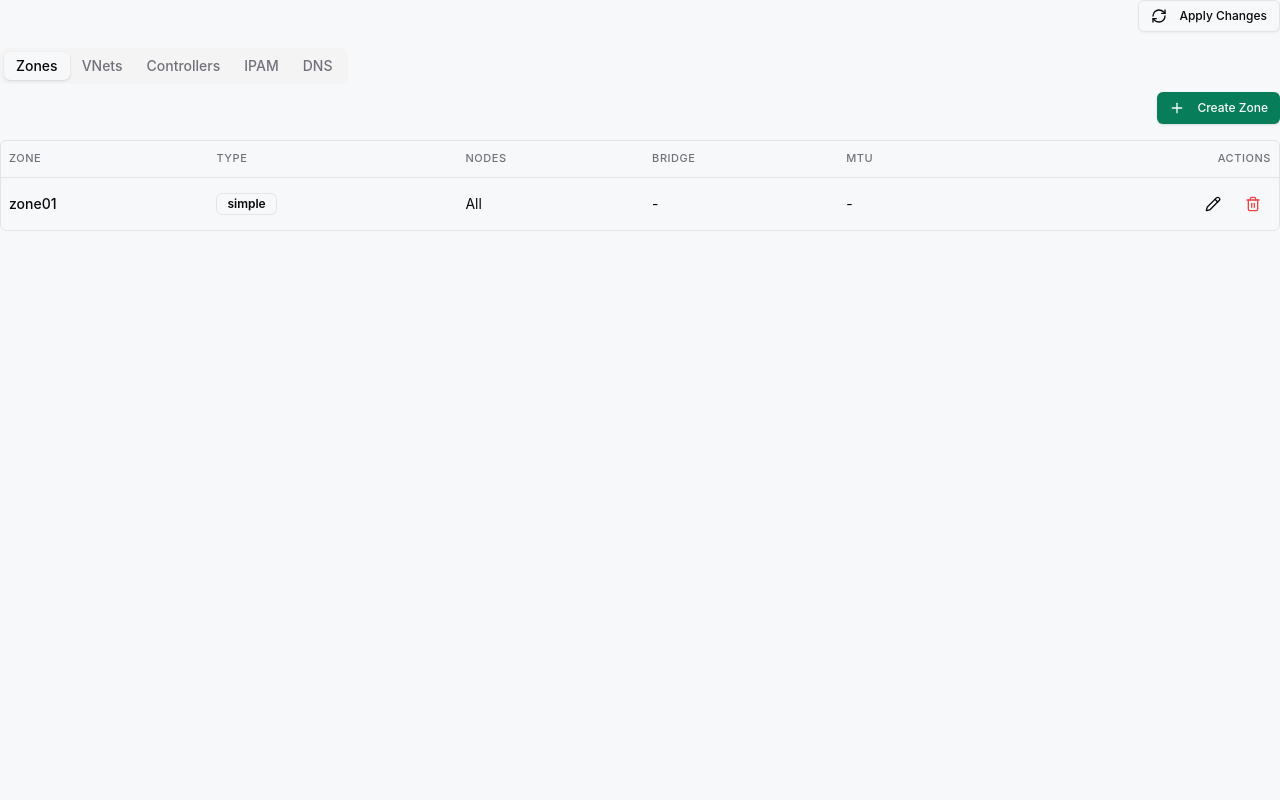
Test: SDNTable — deleting a subnet › asks first, naming the subnet and its VNet, and sends nothing
The image size is (1280, 800).
Click the tab "VNets": coordinates (102, 66) top-left (70, 52), bottom-right (134, 80)
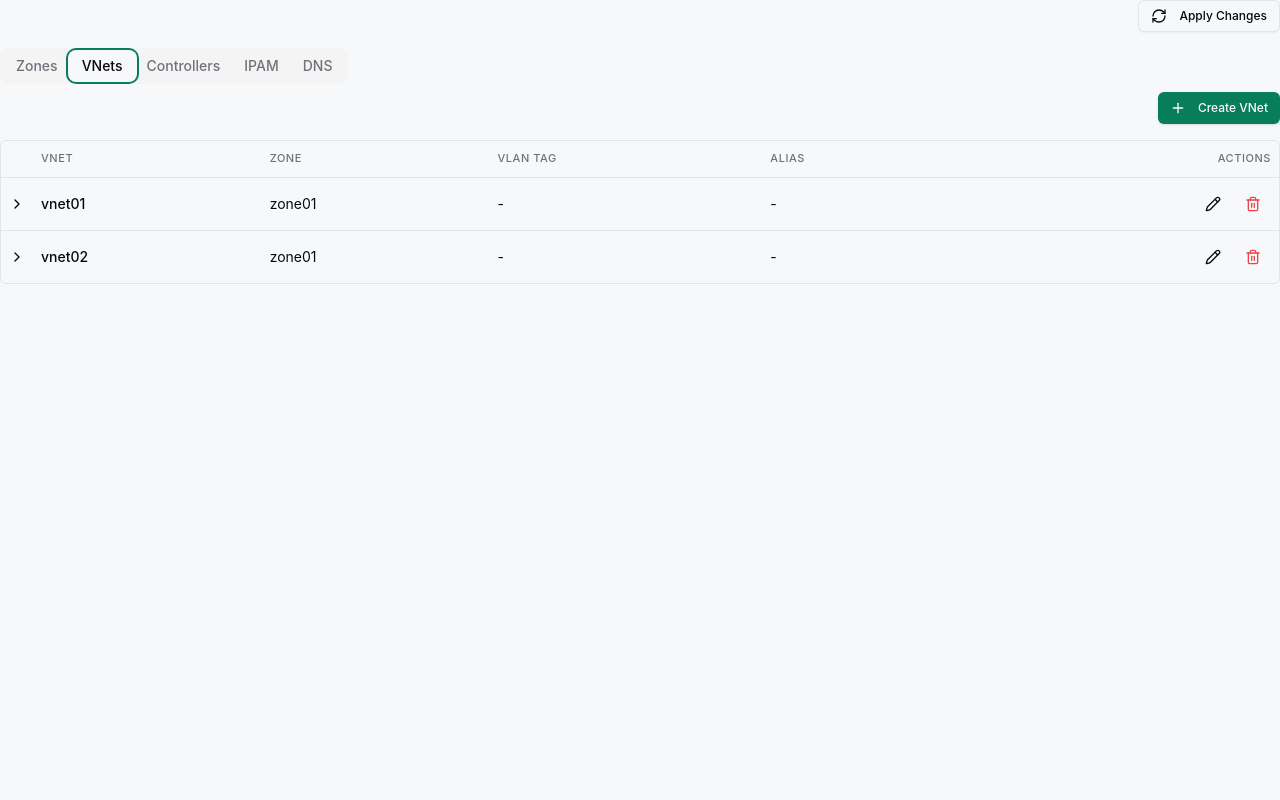
Click the text "vnet01": coordinates (63, 203) top-left (33, 177), bottom-right (262, 230)
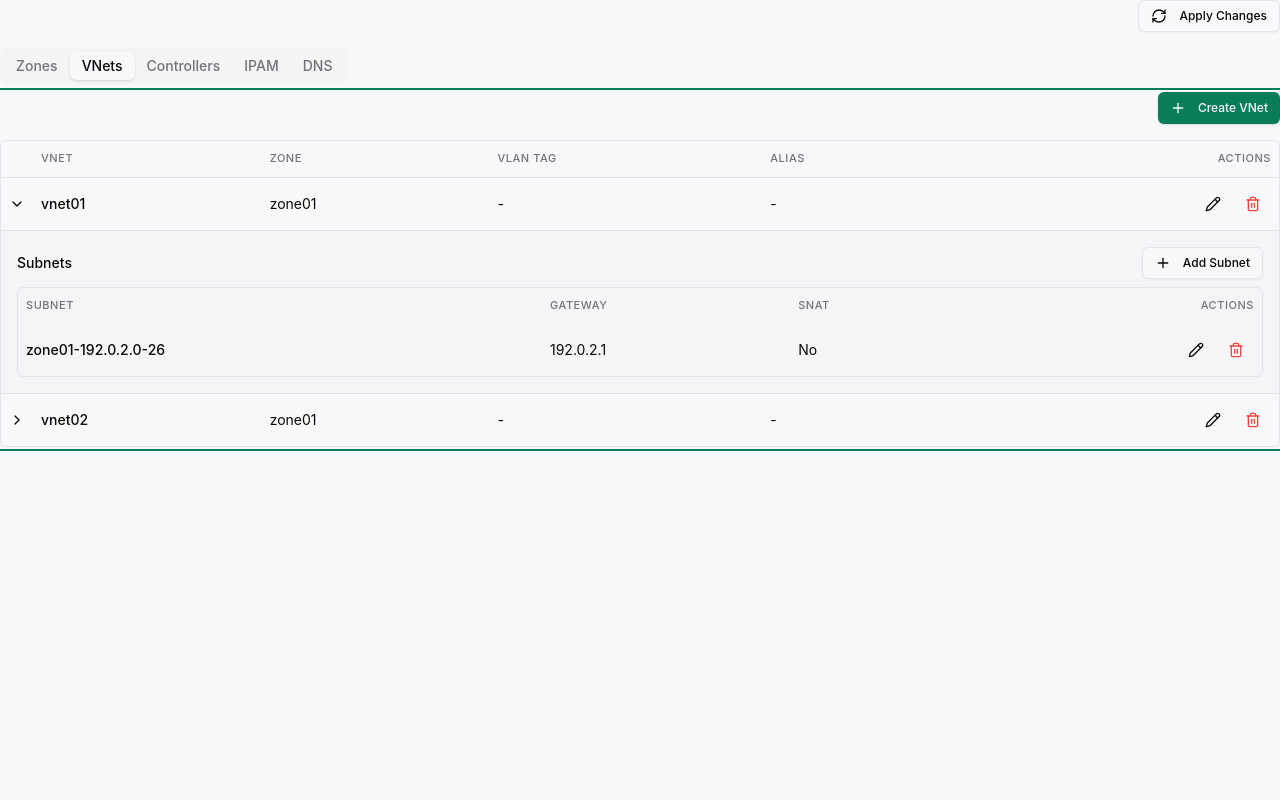
Click the text "vnet02": coordinates (65, 419) top-left (33, 393), bottom-right (262, 446)
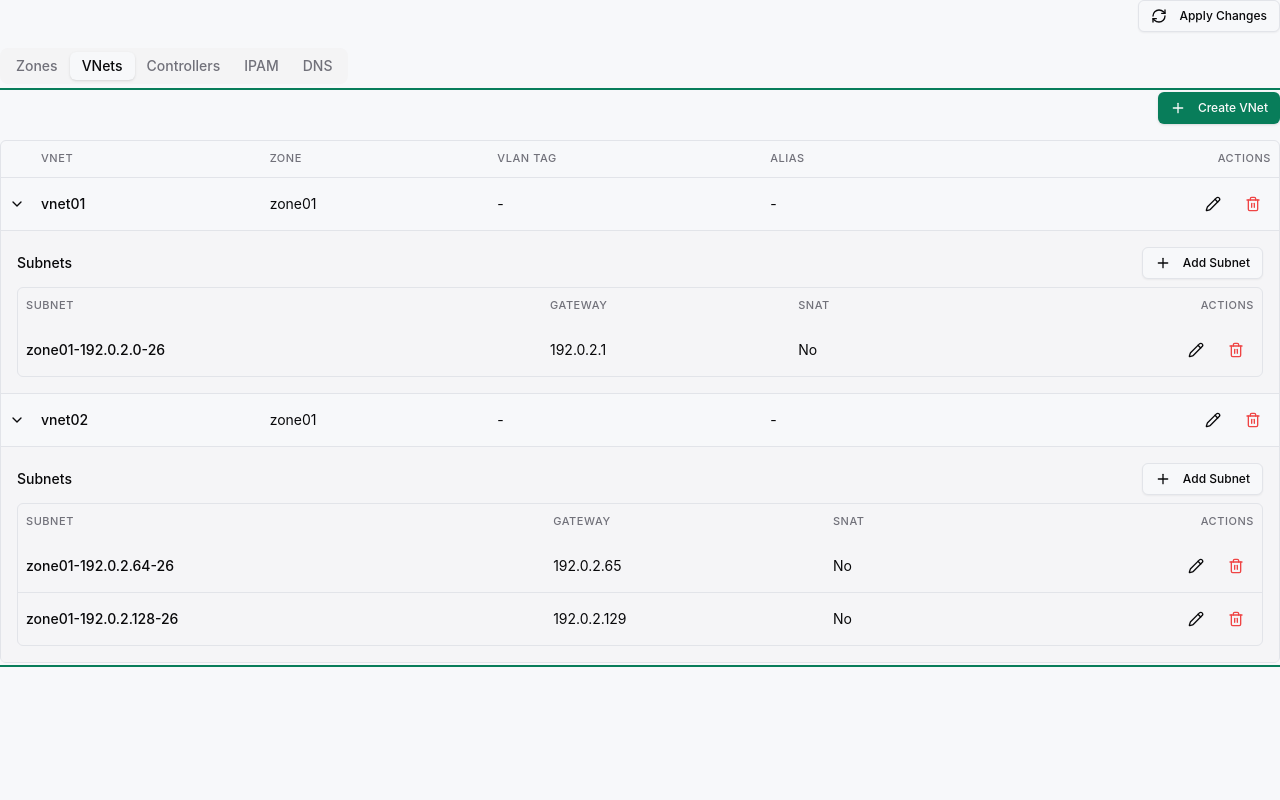
Click the button named "Delete Subnet zone01-192.0.2.128-26": coordinates (1236, 618) top-left (1218, 600), bottom-right (1254, 636)
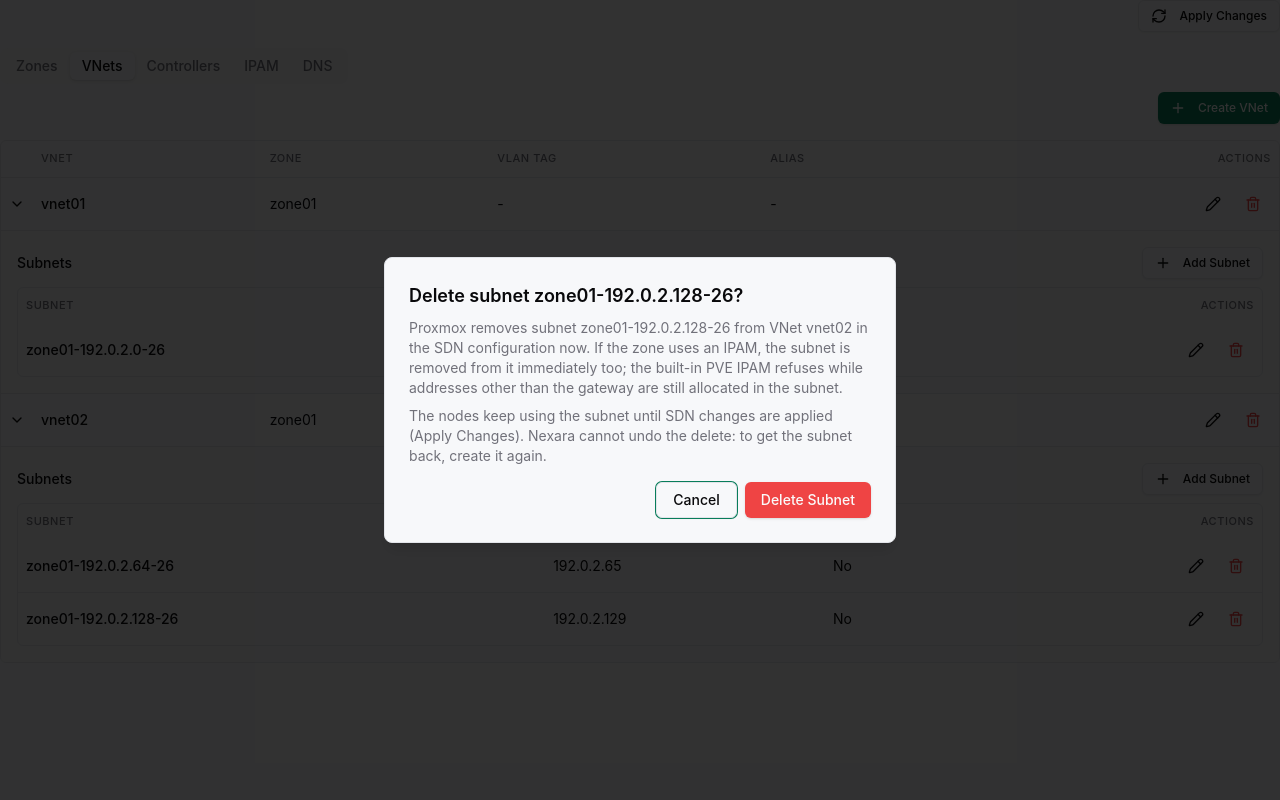
Expected: the dialog shows "The nodes keep using the subnet until SDN changes are applied", top-left (409, 407), bottom-right (852, 464)
